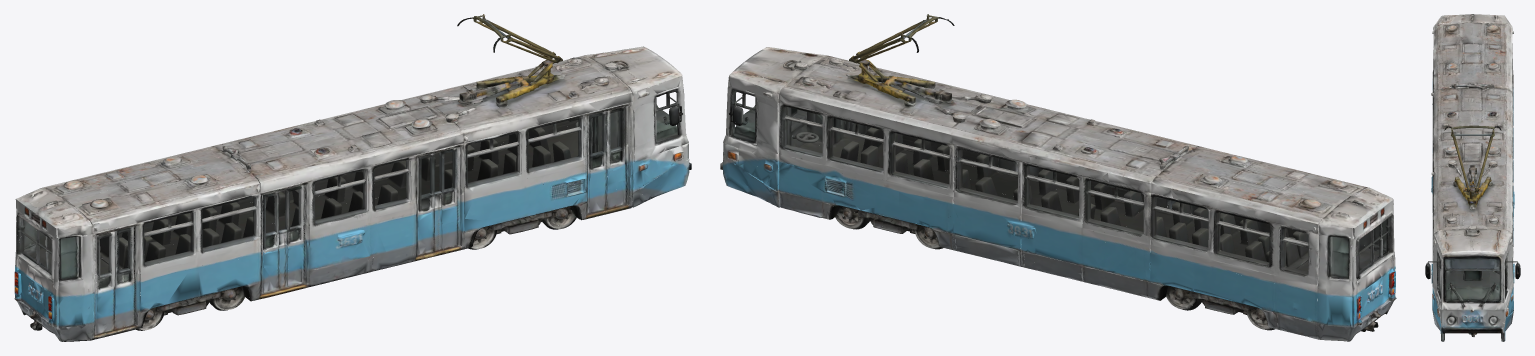
Rendered from ktm8.glb.
3 renders of one model, left to right at view 1: azimuth 30°, elevation 25°; view 2: azimuth 150°, elevation 25°; view 3: azimuth 270°, elevation 25°, orthographic. The views are drawn at different scales.
Parts seen in each view (by area): view 1: KTM-8; view 2: KTM-8; view 3: KTM-8.
Part boxes in pixels (<box>): KTM-8: <box>14,14,691,341</box>; KTM-8: <box>720,14,1396,341</box>; KTM-8: <box>1425,14,1520,341</box>.
Size of the model in its own units: 15.21 by 4.7 by 2.5.
1 material, 1 textured.
